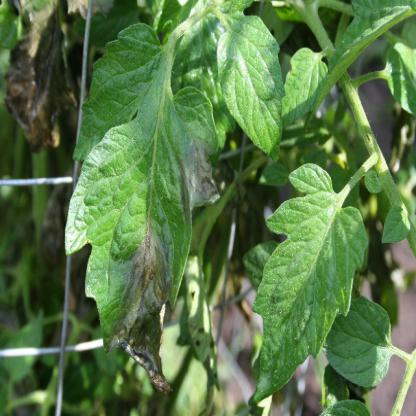Potato leaf late blight: (62, 22, 223, 393)
